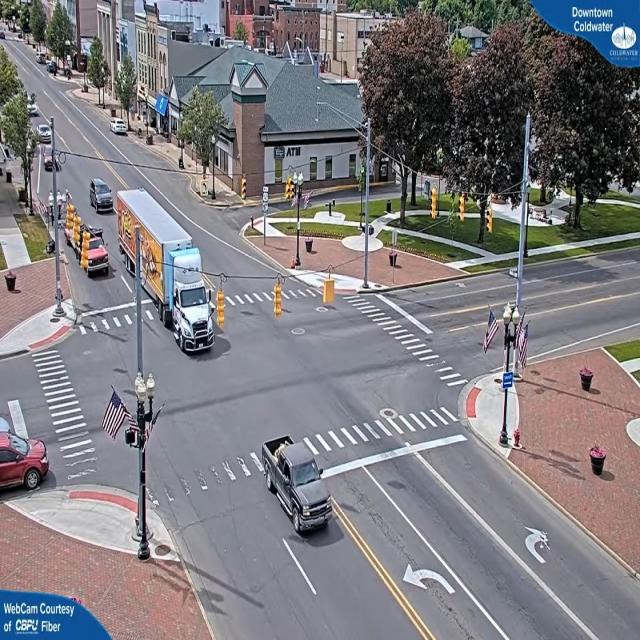car: (260, 438, 332, 539), (0, 430, 50, 497), (88, 179, 114, 212), (111, 120, 129, 136)
truck: (157, 229, 219, 352), (75, 223, 110, 277)
